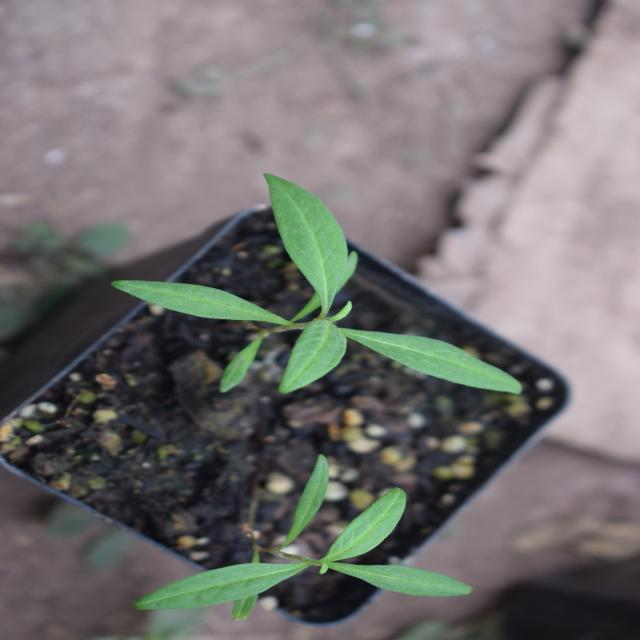white_smart_weed: (215, 112, 440, 486), (456, 142, 614, 518)
